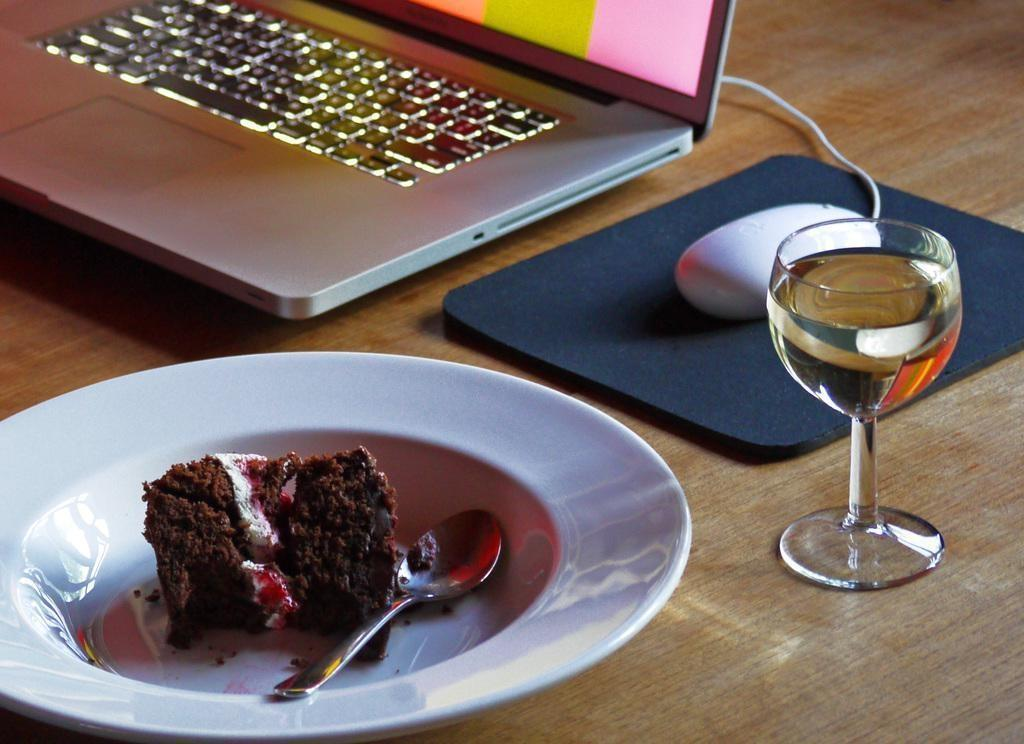glass-wine: (764, 218, 963, 587)
